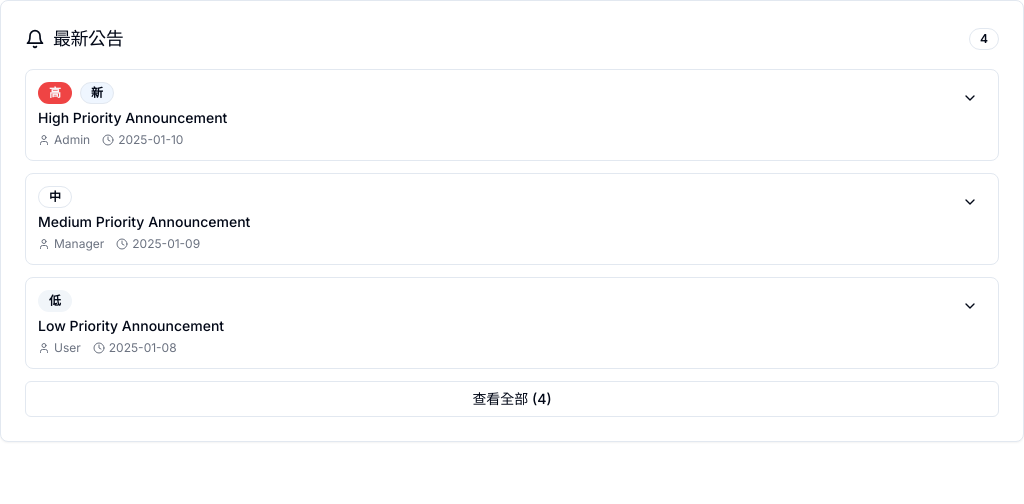
Scenario: AnnouncementPanel › expands individual announcement when clicked
What coordinates should you click on to do the following:
click the button without text in the row of "High Priority Announcement"
I would click on:
 (970, 98)
Its box is [954,82,986,114].
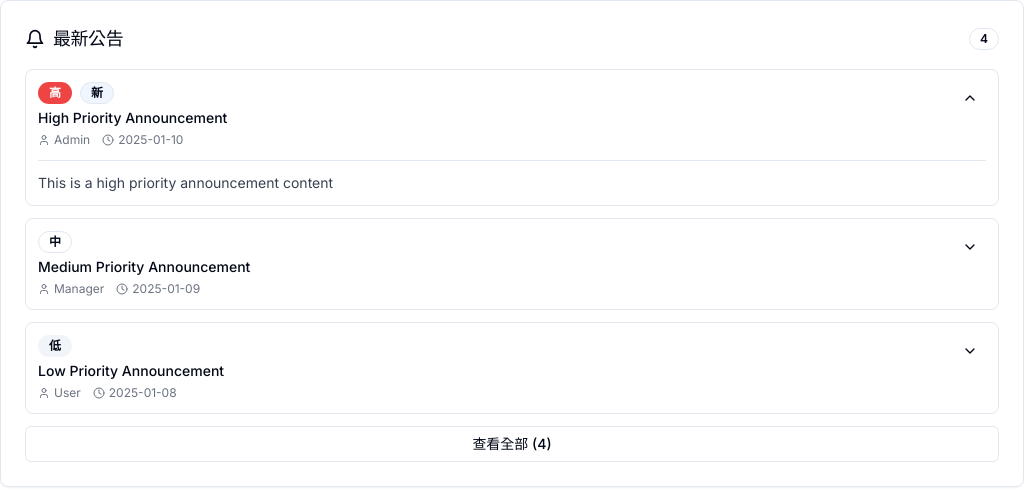
Result: the text "This is a high priority announcement content" is shown at [38,174,333,191]
